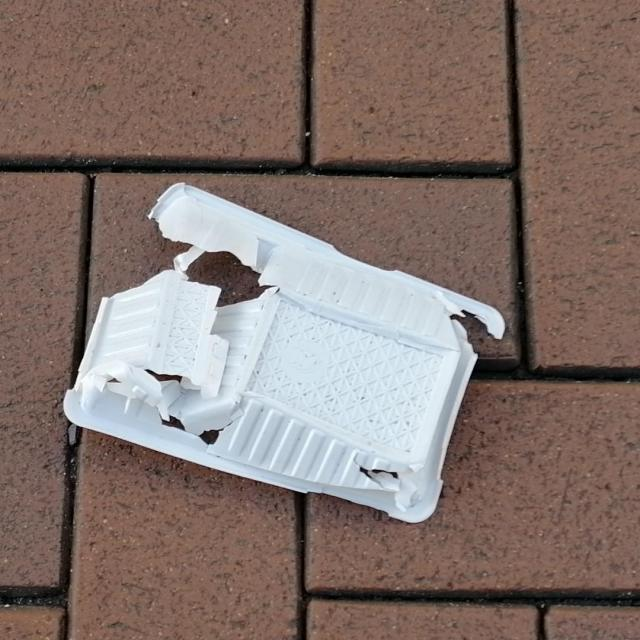Plastic: (58, 178, 506, 528)
